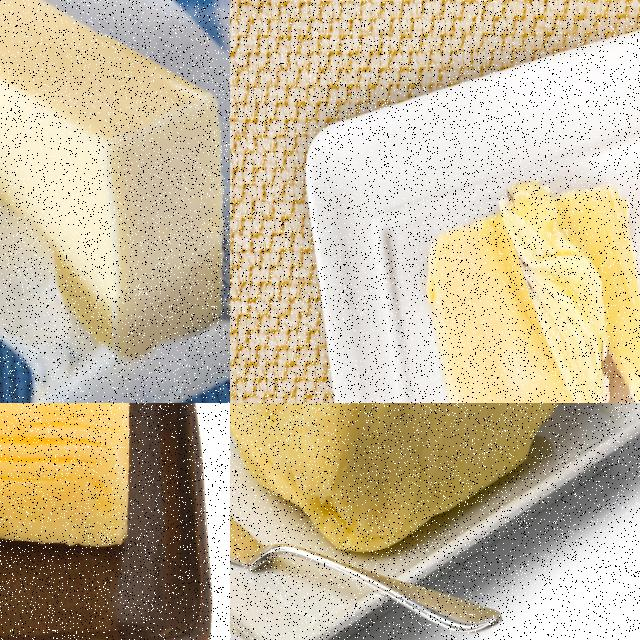butter: (0, 0, 227, 370), (230, 403, 581, 556), (424, 179, 639, 402), (0, 403, 134, 551)
